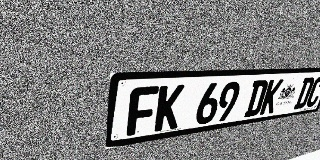6: (194, 82, 223, 125)
9: (214, 81, 242, 122)
C: (304, 77, 320, 108)
D: (244, 80, 269, 117), (293, 77, 316, 110)
F: (126, 86, 159, 136)
K: (154, 84, 185, 132), (259, 79, 284, 115)
